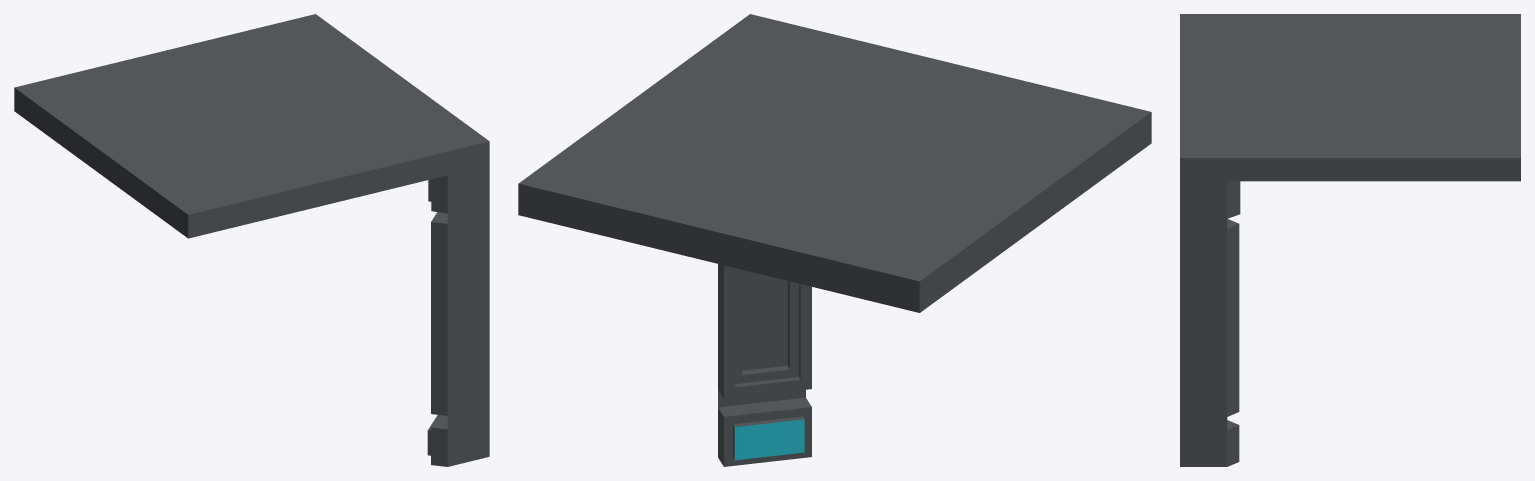
File: EspacioContenidoEsquinaAperturaInteriorNI.gltf
The picture shows the model from 3 angles, left to right: view 1: azimuth 30°, elevation 25°; view 2: azimuth 150°, elevation 25°; view 3: azimuth 270°, elevation 25°; orthographic projection. The views are drawn at different scales.
Parts seen in each view (by area): view 1: Cubo.60; view 2: Cubo.60; view 3: Cubo.60.
Boxes of the visible parts, <box> form: Cubo.60: <box>14,14,489,466</box>; Cubo.60: <box>518,14,1151,466</box>; Cubo.60: <box>1180,14,1520,466</box>.
Size of the model in its own units: 2 by 2 by 2.
1 material, 1 textured.
